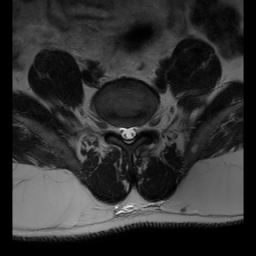CCS_stenosis: (125, 119, 132, 148)
LFS_normal: (139, 117, 147, 138)
LLS_normal: (132, 119, 139, 144)
RFS_normal: (111, 117, 118, 140)
RLS_normal: (118, 119, 125, 143)
